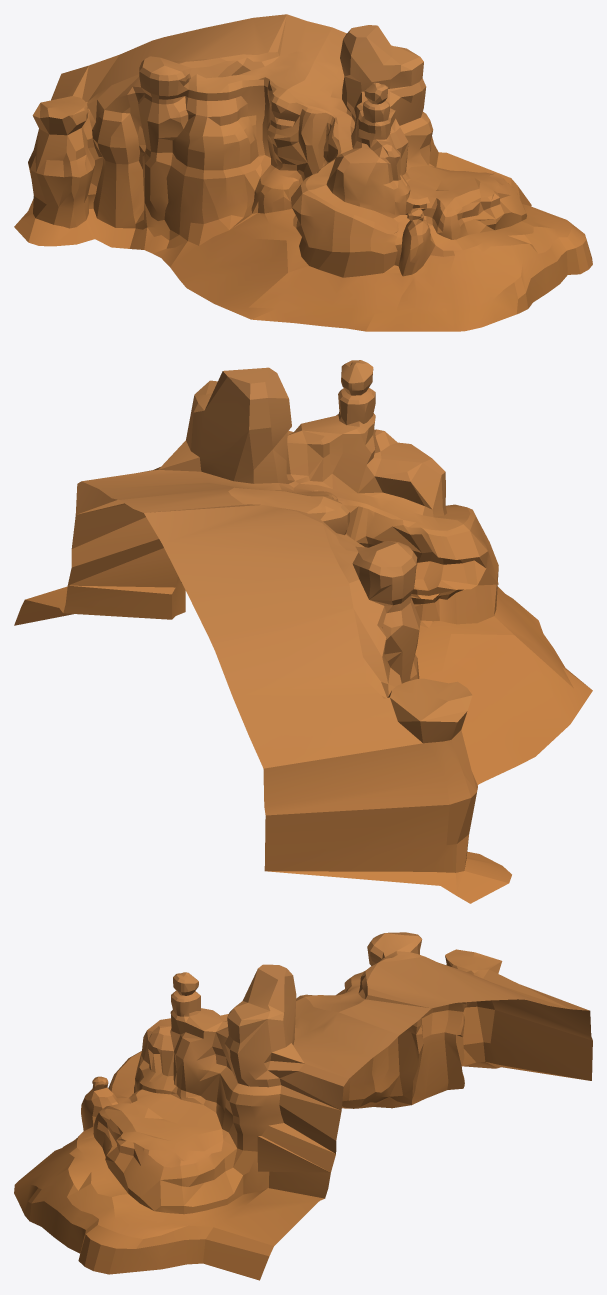
Rendered from gora.fbx.
3 renders of one model, top to bottom at view 1: azimuth 30°, elevation 25°; view 2: azimuth 150°, elevation 25°; view 3: azimuth 270°, elevation 25°, orthographic. The views are drawn at different scales.
Visible parts, largest first — view 1: Rocks_01a; view 2: Rocks_01a; view 3: Rocks_01a.
Boxes of the visible parts, x1,y1,x2,y2 form: Rocks_01a: [14, 14, 592, 331]; Rocks_01a: [14, 360, 592, 903]; Rocks_01a: [14, 932, 592, 1280].
Bounding box in the file's own units: 2508 × 1245 × 2824.
